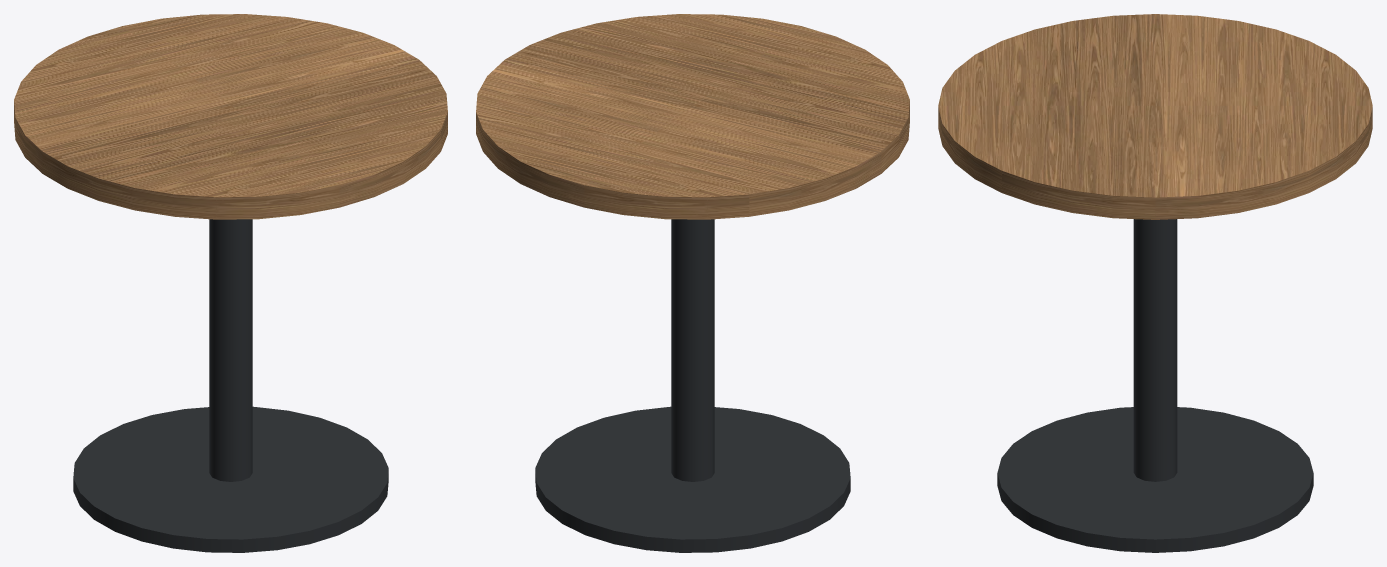
The model's file is sidetable.glb.
3 renders of one model, left to right at view 1: azimuth 30°, elevation 25°; view 2: azimuth 150°, elevation 25°; view 3: azimuth 270°, elevation 25°, orthographic.
Parts seen in each view (by area): view 1: teak.005, frame.010; view 2: teak.005, frame.010; view 3: teak.005, frame.010.
Part boxes in pixels (left/top/right/bottom): teak.005: left=14, top=14, right=447, bottom=219; frame.010: left=73, top=219, right=388, bottom=552; teak.005: left=476, top=14, right=909, bottom=219; frame.010: left=535, top=219, right=850, bottom=552; teak.005: left=938, top=14, right=1372, bottom=219; frame.010: left=997, top=219, right=1313, bottom=552.
Bounding box in the file's own units: 0.44 × 0.425 × 0.44.
Materials: 2 (1 with a texture image).
